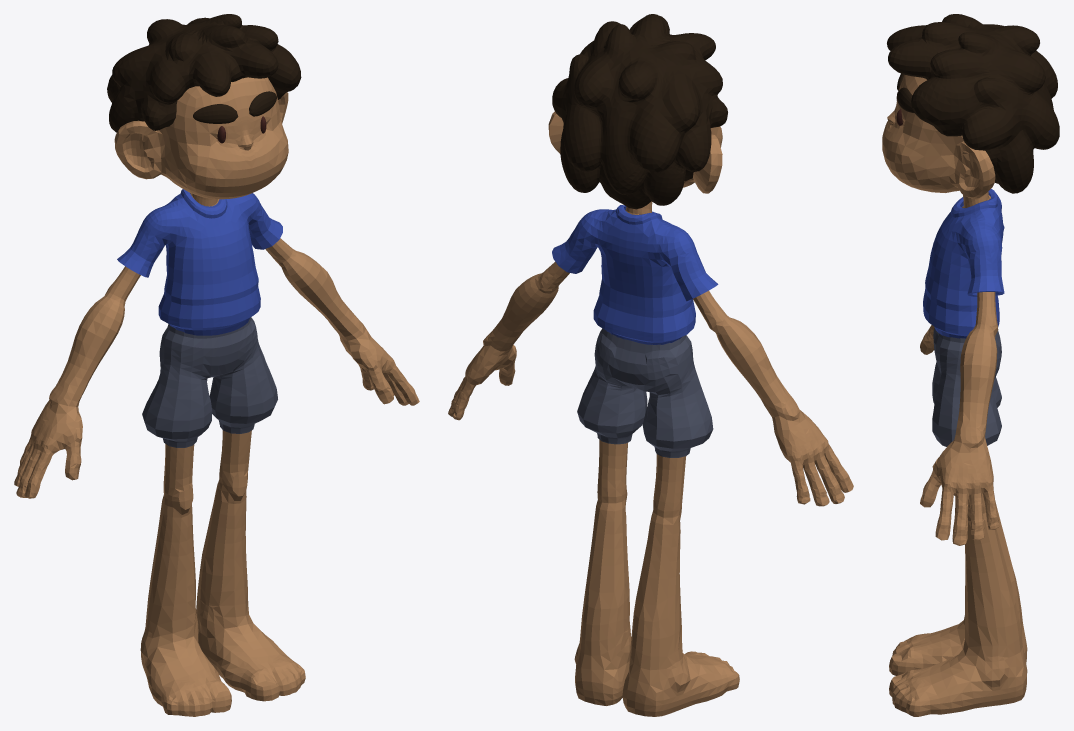
File: Character.fbx
3 renders of one model, left to right at view 1: azimuth 30°, elevation 25°; view 2: azimuth 150°, elevation 25°; view 3: azimuth 270°, elevation 25°, orthographic.
Visible parts, largest first — view 1: Bero Body, Bero Clothing, Bero Hair; view 2: Bero Body, Bero Clothing, Bero Hair; view 3: Bero Body, Bero Hair, Bero Clothing.
Boxes of the visible parts, x1,y1,x2,y2 form: Bero Body: (14,77,419,716); Bero Clothing: (117,189,282,447); Bero Hair: (107,14,301,132); Bero Body: (448,111,853,716); Bero Clothing: (552,205,718,457); Bero Hair: (552,14,727,209); Bero Body: (882,73,1027,716); Bero Hair: (887,14,1059,193); Bero Clothing: (923,189,1004,446).
Size of the model in its own units: 69.83 by 113 by 27.26.
